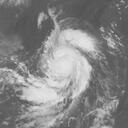cyclone: (35, 29, 103, 107)
